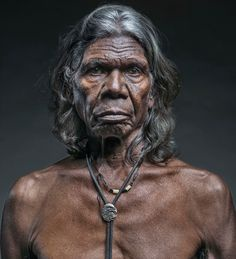bad: (66, 46, 155, 136)
